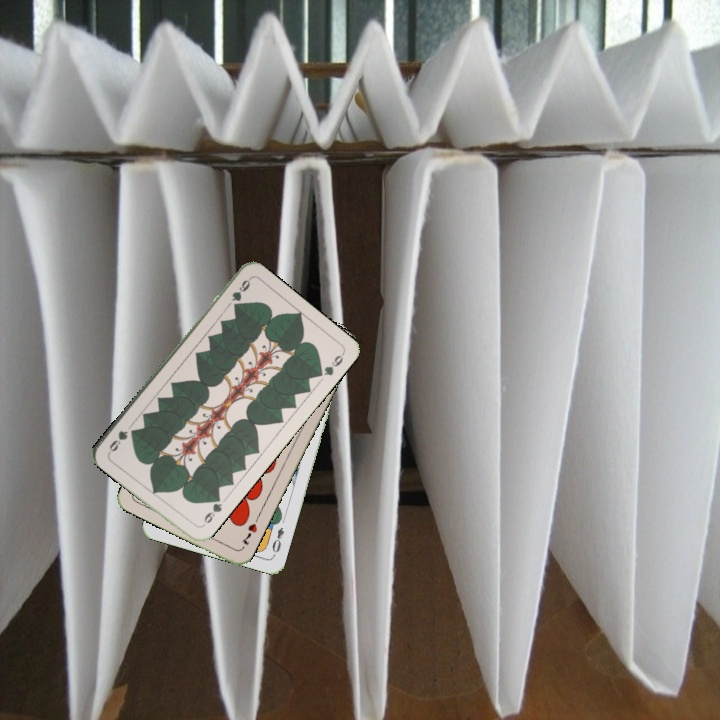EO: (268, 523, 287, 559)
G9: (196, 493, 225, 530), (228, 274, 253, 304)
H7: (237, 519, 260, 547)
